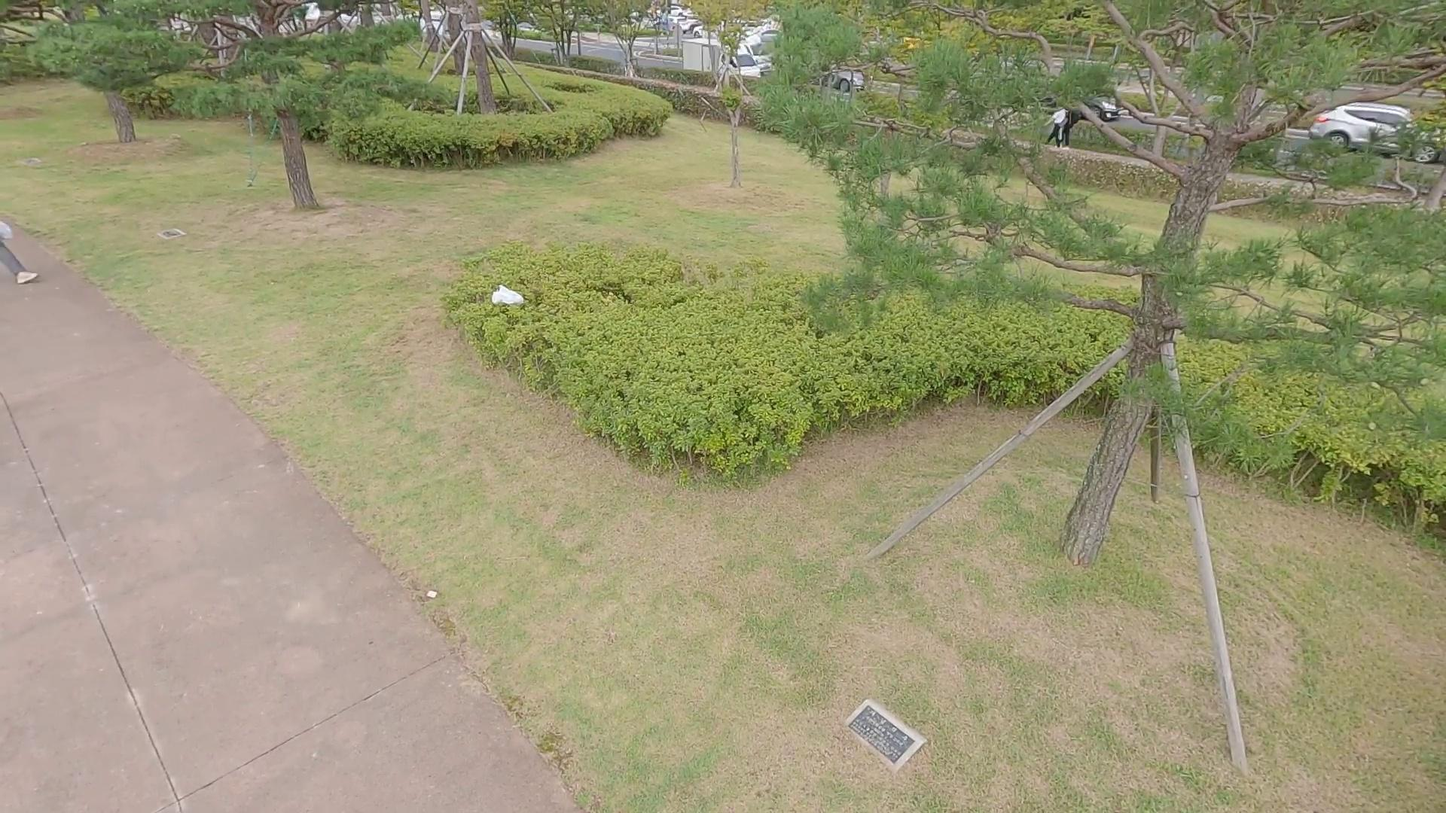person: (0, 208, 43, 291)
trash: (485, 280, 537, 313)
